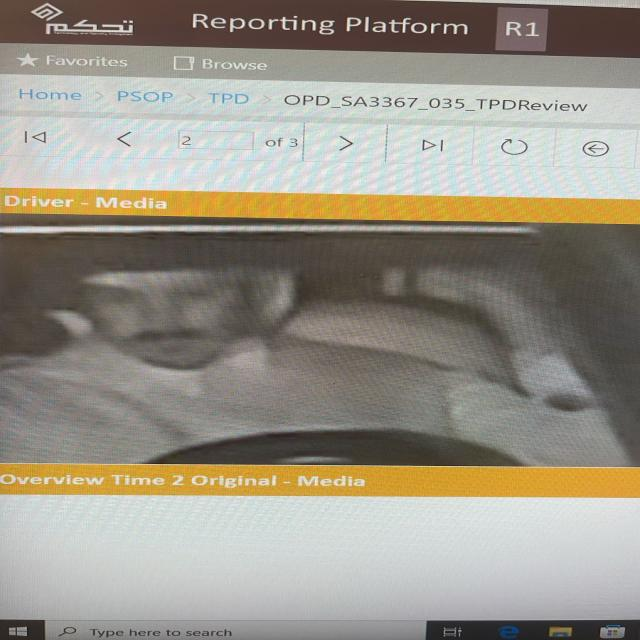person_without_seatbelt: (0, 231, 620, 461)
